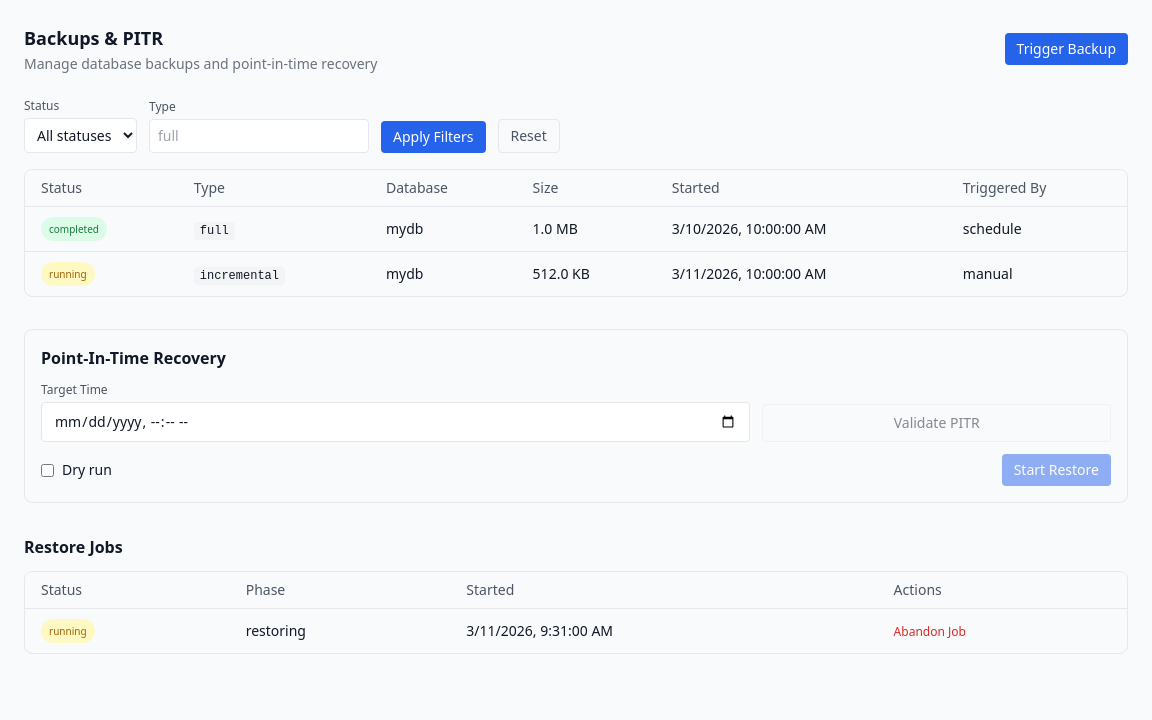
Test: Backups › clears restore jobs when the selected restore context becomes unset
Expected: the heading "Restore Jobs" is shown, [24, 536, 123, 558]
Select "Running" in the dropdown labelled "Status" at (80, 136), box [24, 118, 137, 153]
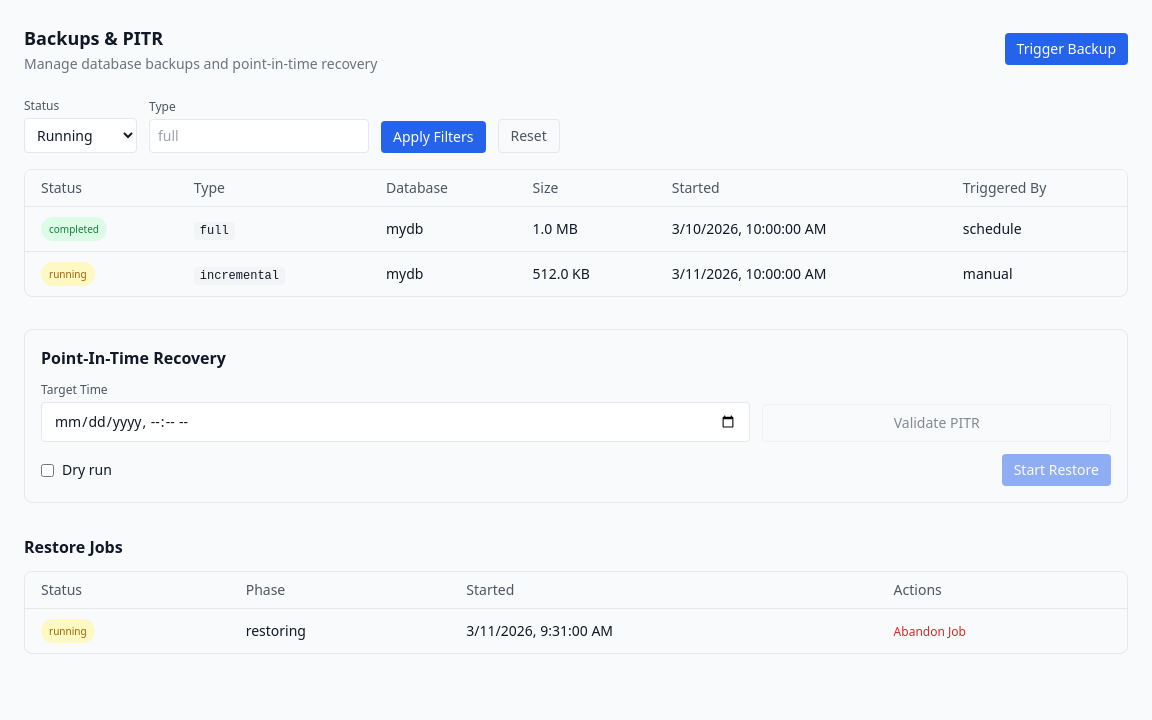
Click the button "Apply Filters" at (433, 137), box [381, 121, 486, 153]
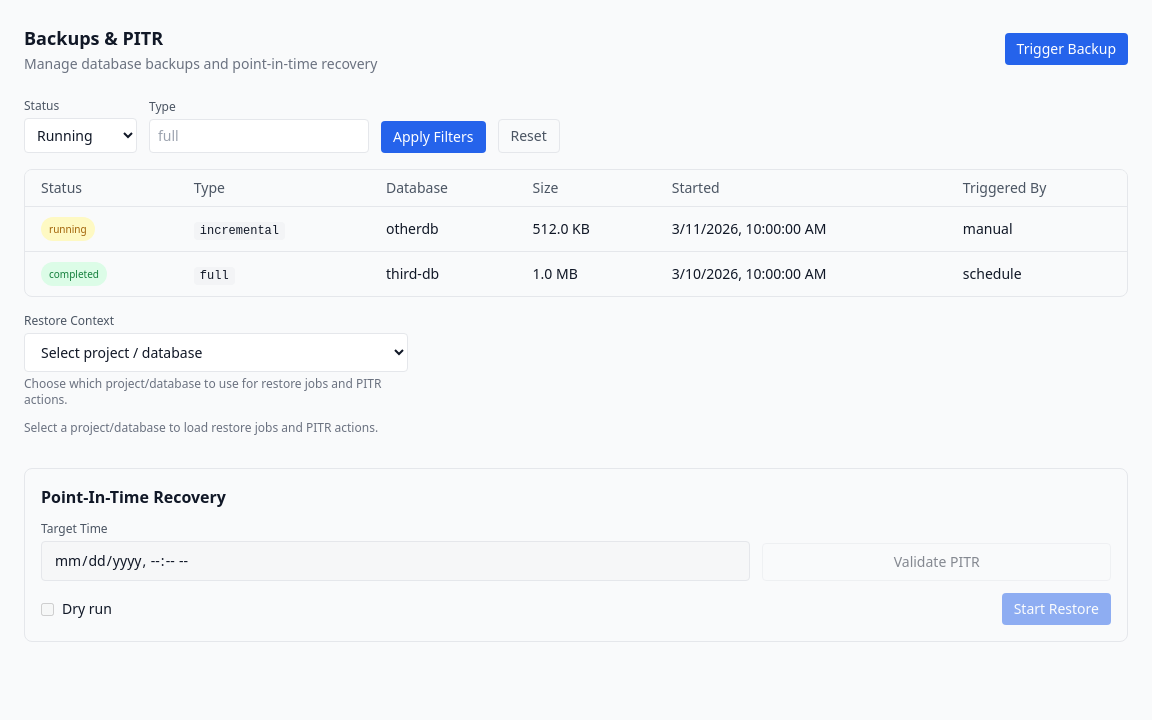
Expected: the text "Select a project/database" is shown, [24, 419, 378, 436]
